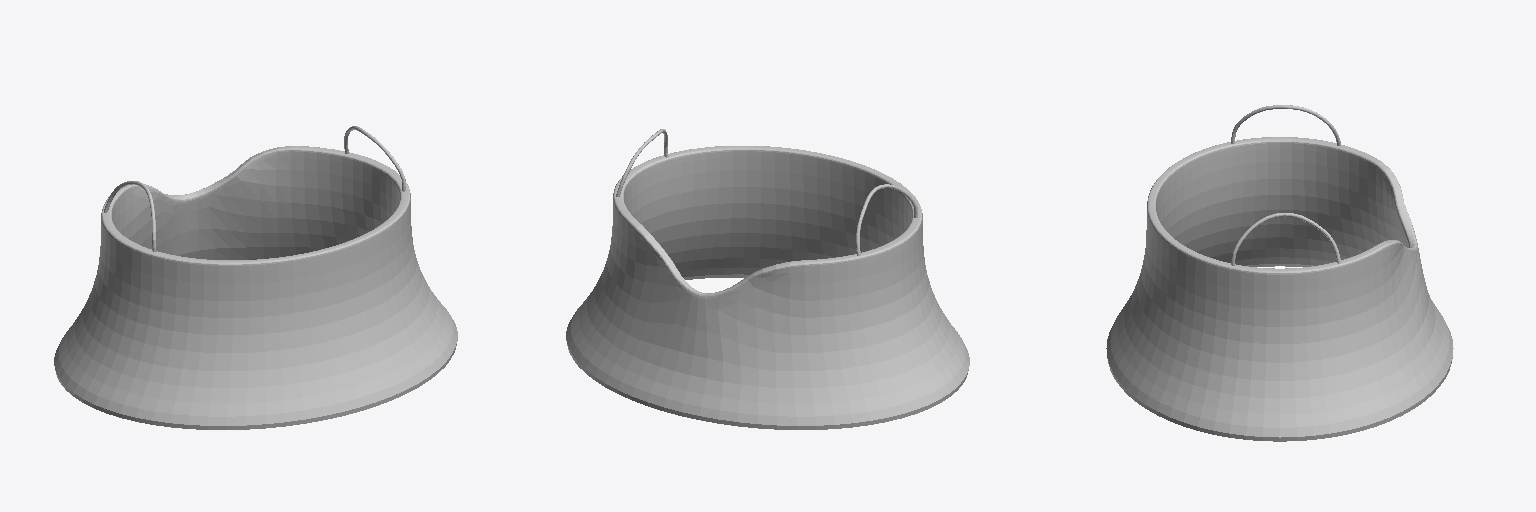
The model's file is VestidoJunto.obj.
3 renders of one model, left to right at view 1: azimuth 30°, elevation 25°; view 2: azimuth 150°, elevation 25°; view 3: azimuth 270°, elevation 25°, orthographic.
Parts seen in each view (by area): view 1: Vestido; view 2: Vestido; view 3: Vestido.
Boxes of the visible parts, x1,y1,x2,y2 form: Vestido: [54, 126, 457, 429]; Vestido: [566, 129, 969, 429]; Vestido: [1106, 105, 1453, 441].
Bounding box in the file's own units: 28.56 × 14.52 × 23.54.